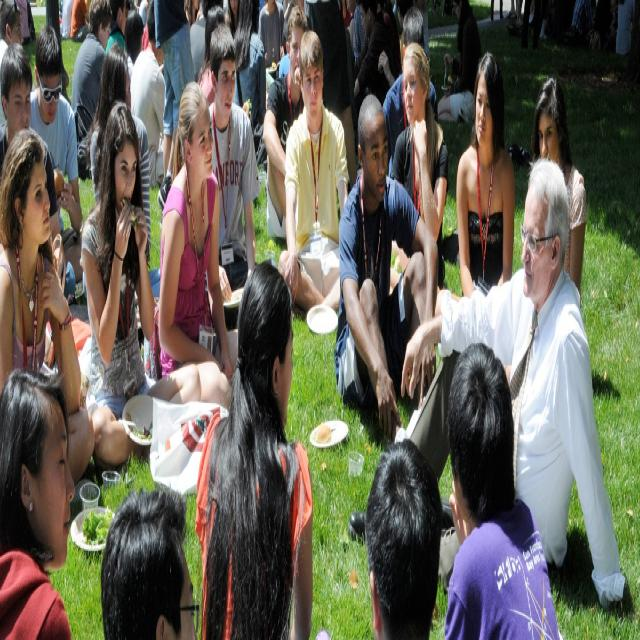body: (348, 158, 626, 618), (73, 99, 207, 467), (193, 272, 316, 640), (333, 91, 440, 450), (0, 124, 98, 490), (442, 341, 561, 640), (158, 80, 234, 412), (0, 358, 83, 639), (88, 40, 162, 325), (277, 27, 350, 314), (0, 40, 77, 305), (362, 440, 443, 640), (389, 36, 450, 300), (208, 22, 258, 335), (455, 50, 516, 298), (100, 491, 201, 640), (28, 24, 83, 284), (527, 72, 589, 302), (261, 6, 310, 244), (380, 8, 440, 184), (154, 0, 196, 229), (349, 0, 395, 174), (71, 0, 113, 183), (128, 0, 165, 188), (436, 0, 483, 131), (232, 0, 267, 131), (0, 0, 25, 141), (196, 2, 227, 108), (488, 0, 566, 39), (567, 0, 604, 81), (594, 0, 625, 84), (258, 0, 285, 67), (123, 6, 146, 84), (614, 0, 636, 64), (14, 0, 36, 47), (69, 0, 90, 45), (226, 0, 244, 40), (60, 0, 74, 39)
